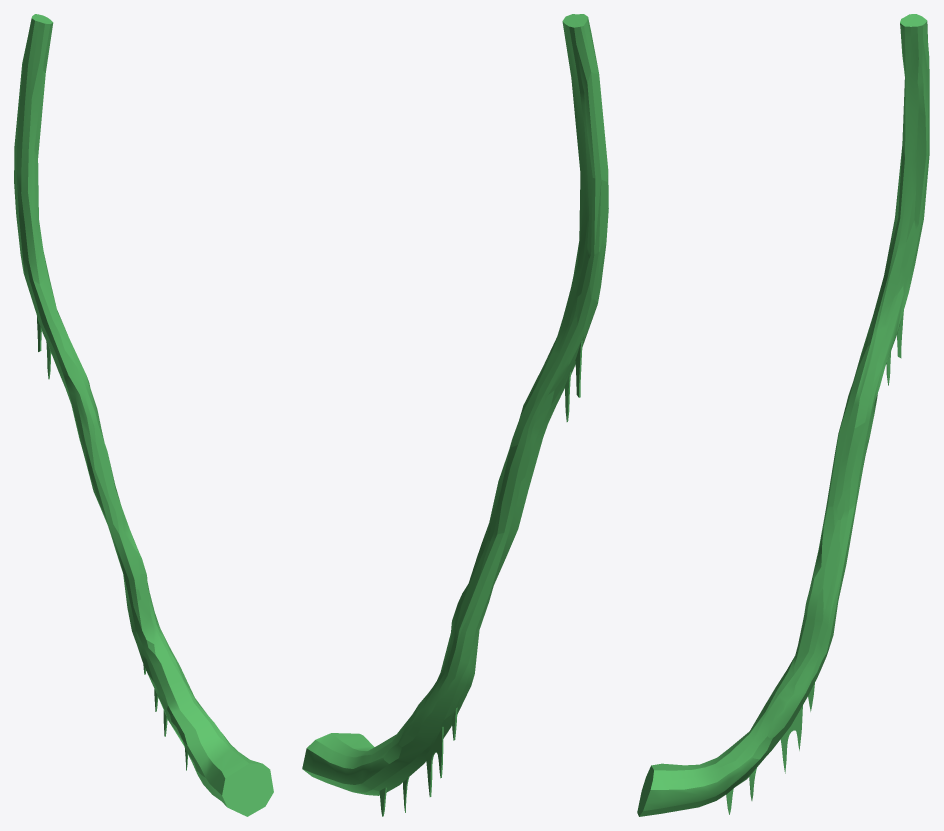
The model's file is jungle_trunk_C.fbx.
The picture shows the model from 3 angles, left to right: view 1: azimuth 30°, elevation 25°; view 2: azimuth 210°, elevation 25°; view 3: azimuth 270°, elevation 25°; orthographic projection. The views are drawn at different scales.
Visible parts, largest first — view 1: jungle_trunk_C; view 2: jungle_trunk_C, jungle_trunk_C_liana_B; view 3: jungle_trunk_C.
Boxes of the visible parts, <box> form: jungle_trunk_C: <box>14,14,273,816</box>; jungle_trunk_C: <box>302,14,608,795</box>; jungle_trunk_C_liana_B: <box>426,726,443,796</box>; jungle_trunk_C: <box>637,14,929,816</box>.
Bounding box in the file's own units: 211 × 1144 × 401.
